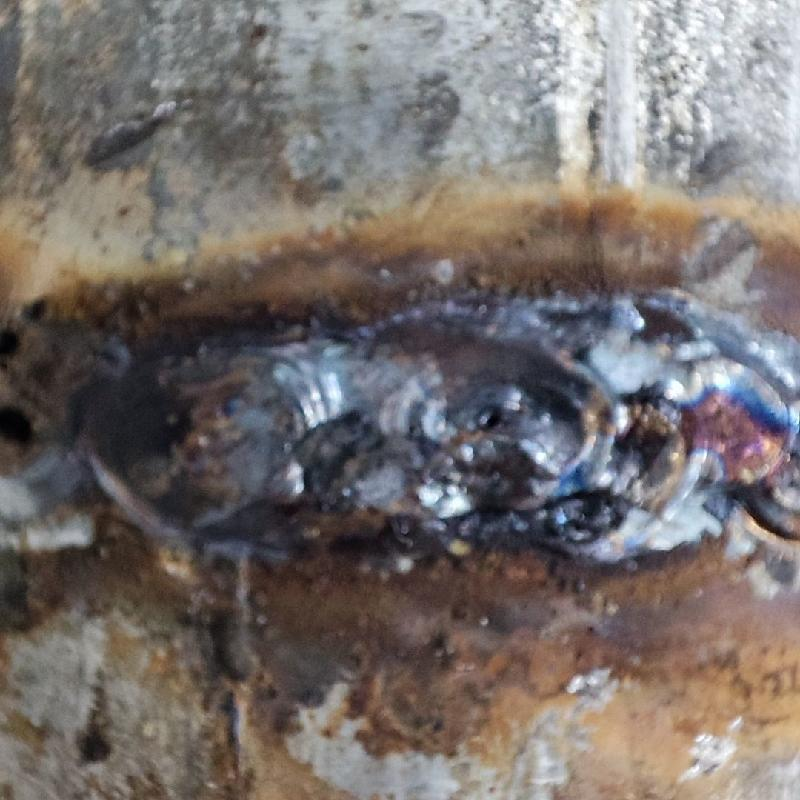Surface_pores: (461, 394, 522, 440)
crater: (122, 323, 799, 538)
